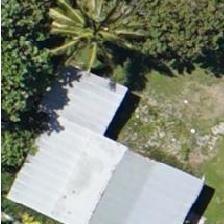Kelapa_Sawit: (44, 0, 134, 75)
